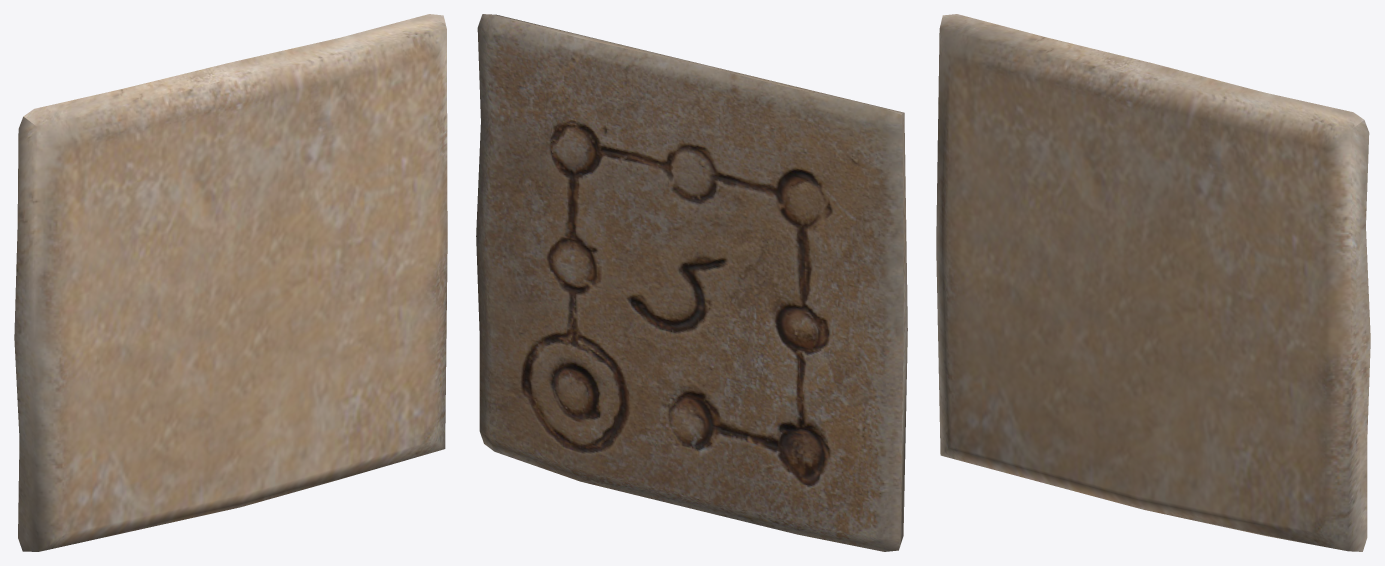
Rendered from side_back.obj.
3 renders of one model, left to right at view 1: azimuth 30°, elevation 25°; view 2: azimuth 150°, elevation 25°; view 3: azimuth 330°, elevation 25°, orthographic.
Visible parts, largest first — view 1: back polySurface1 pCube1; view 2: back polySurface1 pCube1; view 3: back polySurface1 pCube1.
Part boxes in pixels (x1,y1,x2,y2): back polySurface1 pCube1: (14, 14, 447, 551); back polySurface1 pCube1: (476, 14, 907, 551); back polySurface1 pCube1: (936, 14, 1370, 551).
Bounding box in the file's own units: 4.85 × 4.83 × 0.4309.
